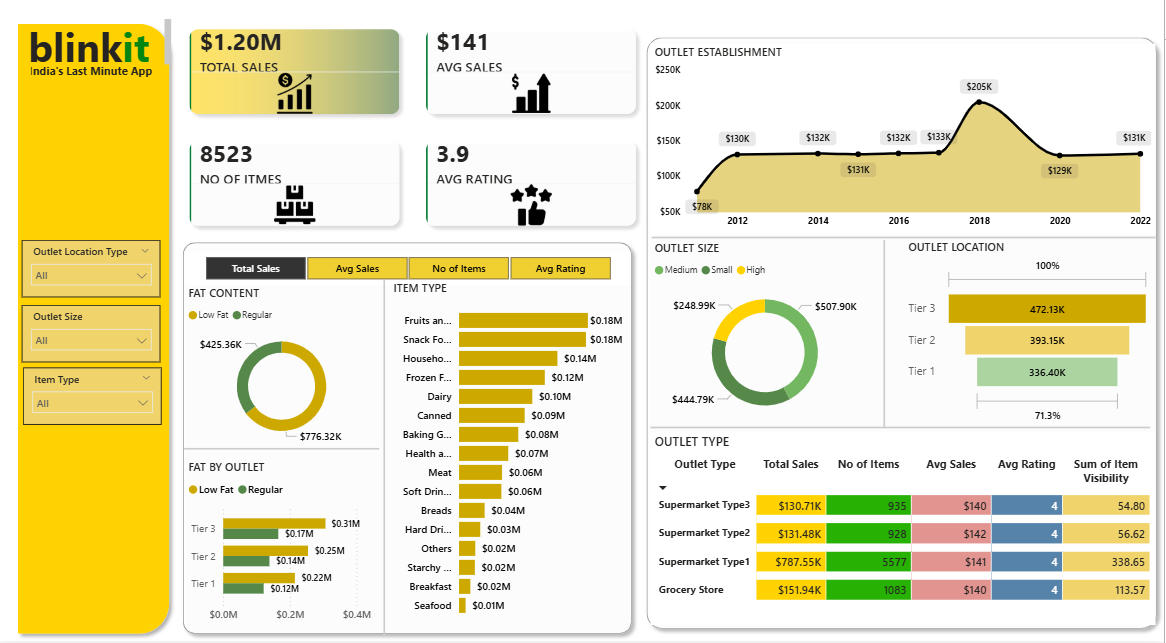

The page's visual inventory and layout, read from the dashboard file:
{"tool":"powerbi","page":{"name":"Page 1","canvas":[1400,800],"ordinal":0},"visuals":[{"type":"shape","box":[15,49.5,199.6,750.4],"z":0},{"type":"textbox","box":[13.5,48,199.6,69],"z":1000},{"type":"textbox","box":[28.5,100.6,166.6,28.5],"z":2000},{"type":"cardVisual","fields":{"Data":["BlinkIT Grocery Data.Total Sales","BlinkIT Grocery Data.Avg Sales","BlinkIT Grocery Data.No of Items","BlinkIT Grocery Data.Avg Rating"]},"box":[213.1,48,570.3,270.2],"z":3000},{"type":"shape","box":[213.1,312.2,556.8,487.8],"z":4000},{"type":"donutChart","title":"FAT CONTENT","fields":{"Y":["BlinkIT Grocery Data.Total Sales"],"Category":["BlinkIT Grocery Data.Item Fat Content"]},"box":[223.6,372.2,234.1,198.1],"z":5000},{"type":"slicer","fields":{"Values":["Metrics.Metrics"]},"box":[223.6,331.7,535.8,40.5],"z":6000},{"type":"clusteredBarChart","title":"FAT BY OUTLET","fields":{"Y":["BlinkIT Grocery Data.Total Sales"],"Category":["BlinkIT Grocery Data.Outlet Location Type"],"Series":["BlinkIT Grocery Data.Item Fat Content"]},"box":[223.6,580.8,234.1,205.6],"z":7000},{"type":"shape","box":[223.6,556.8,234.1,24],"z":8000},{"type":"shape","box":[457.8,366.2,12,427.7],"z":9000},{"type":"barChart","title":"ITEM TYPE","fields":{"Y":["BlinkIT Grocery Data.Total Sales"],"Category":["BlinkIT Grocery Data.Item Type"]},"box":[469.8,366.2,285.2,414.2],"z":10000},{"type":"shape","box":[769.9,66,630.4,727.9],"z":11000},{"type":"lineChart","title":"OUTLET ESTABLISHMENT","fields":{"Y":["BlinkIT Grocery Data.Total Sales"],"Category":["BlinkIT Grocery Data.Outlet Establishment Year"]},"box":[783.5,82.5,606.3,229.6],"z":12000},{"type":"shape","box":[785,312.2,604.8,6],"z":13000},{"type":"donutChart","title":"OUTLET SIZE","fields":{"Y":["BlinkIT Grocery Data.Total Sales"],"Category":["BlinkIT Grocery Data.Outlet Size"]},"box":[783.5,318.2,275,225],"z":13001},{"type":"funnel","title":"OUTLET LOCATION","fields":{"Y":["Sum(BlinkIT Grocery Data.Sales)"],"Category":["BlinkIT Grocery Data.Outlet Location Type"]},"box":[1088.1,316.7,300.2,226.6],"z":13002},{"type":"shape","box":[783.5,537.3,600.3,12],"z":13003},{"type":"shape","box":[1058.1,318.2,12,225.1],"z":13004},{"type":"pivotTable","title":"OUTLET TYPE","fields":{"Rows":["BlinkIT Grocery Data.Outlet Type"],"Values":["BlinkIT Grocery Data.Total Sales","BlinkIT Grocery Data.No of Items","BlinkIT Grocery Data.Avg Sales","BlinkIT Grocery Data.Avg Rating","Sum(BlinkIT Grocery Data.Item Visibility)"]},"box":[783.5,549.3,606.3,231.1],"z":13005},{"type":"slicer","fields":{"Values":["BlinkIT Grocery Data.Outlet Location Type"]},"box":[28.5,318.2,166.6,69],"z":13006},{"type":"slicer","fields":{"Values":["BlinkIT Grocery Data.Outlet Size"]},"box":[28.5,396.2,166.6,69],"z":13007},{"type":"slicer","fields":{"Values":["BlinkIT Grocery Data.Item Type"]},"box":[30,471.3,166.6,69],"z":13008}]}

Visuals, with their boxes on the page's 1400x800 design canvas (x1, y1, x2, y2). These are canvas units, not pixel positions in the 1166x643 screenshot, which may show the page scaled, cropped or inside an application window:
shape: (15,50,215,800)
textbox: (14,48,213,117)
textbox: (28,101,195,129)
cardVisual - BlinkIT Grocery Data.Total Sales x BlinkIT Grocery Data.Avg Sales: (213,48,783,318)
shape: (213,312,770,800)
"FAT CONTENT" donutChart: (224,372,458,570)
slicer - Metrics.Metrics: (224,332,759,372)
"FAT BY OUTLET" clusteredBarChart: (224,581,458,786)
shape: (224,557,458,581)
shape: (458,366,470,794)
"ITEM TYPE" barChart: (470,366,755,780)
shape: (770,66,1400,794)
"OUTLET ESTABLISHMENT" lineChart: (784,82,1390,312)
shape: (785,312,1390,318)
"OUTLET SIZE" donutChart: (784,318,1058,543)
"OUTLET LOCATION" funnel: (1088,317,1388,543)
shape: (784,537,1384,549)
shape: (1058,318,1070,543)
"OUTLET TYPE" pivotTable: (784,549,1390,780)
slicer - BlinkIT Grocery Data.Outlet Location Type: (28,318,195,387)
slicer - BlinkIT Grocery Data.Outlet Size: (28,396,195,465)
slicer - BlinkIT Grocery Data.Item Type: (30,471,197,540)
